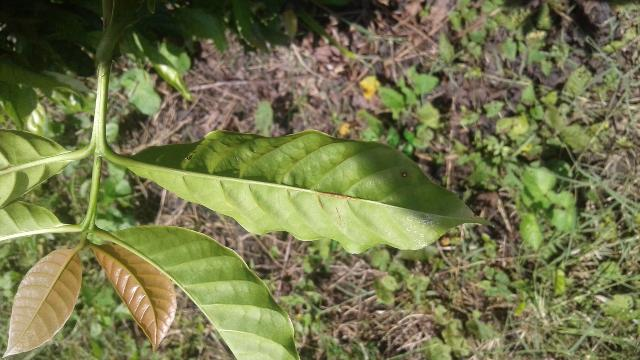rust_level_1: (120, 120, 504, 253)
